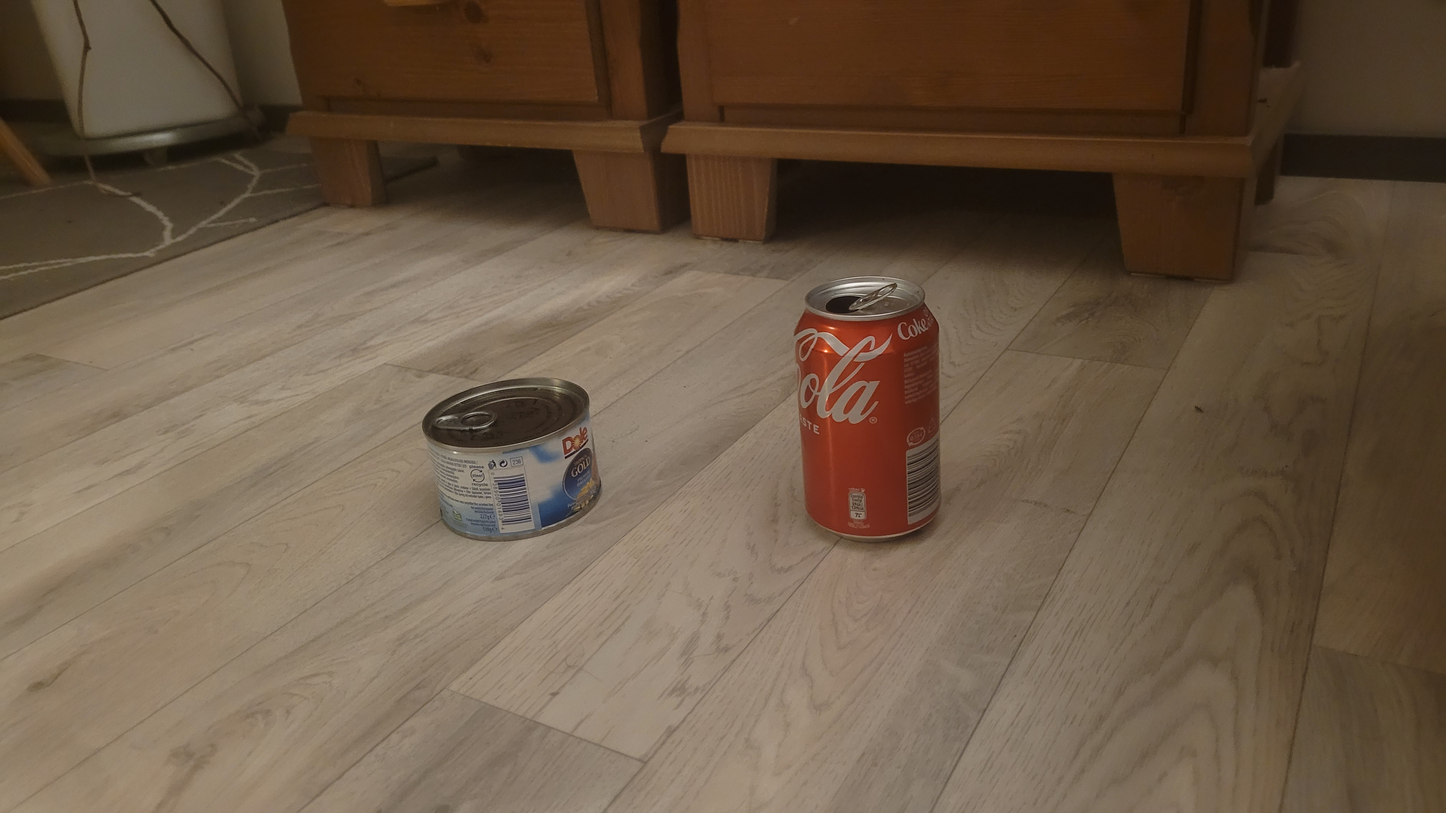Konservburk: (423, 378, 603, 541)
Pantburk: (793, 276, 941, 545)
